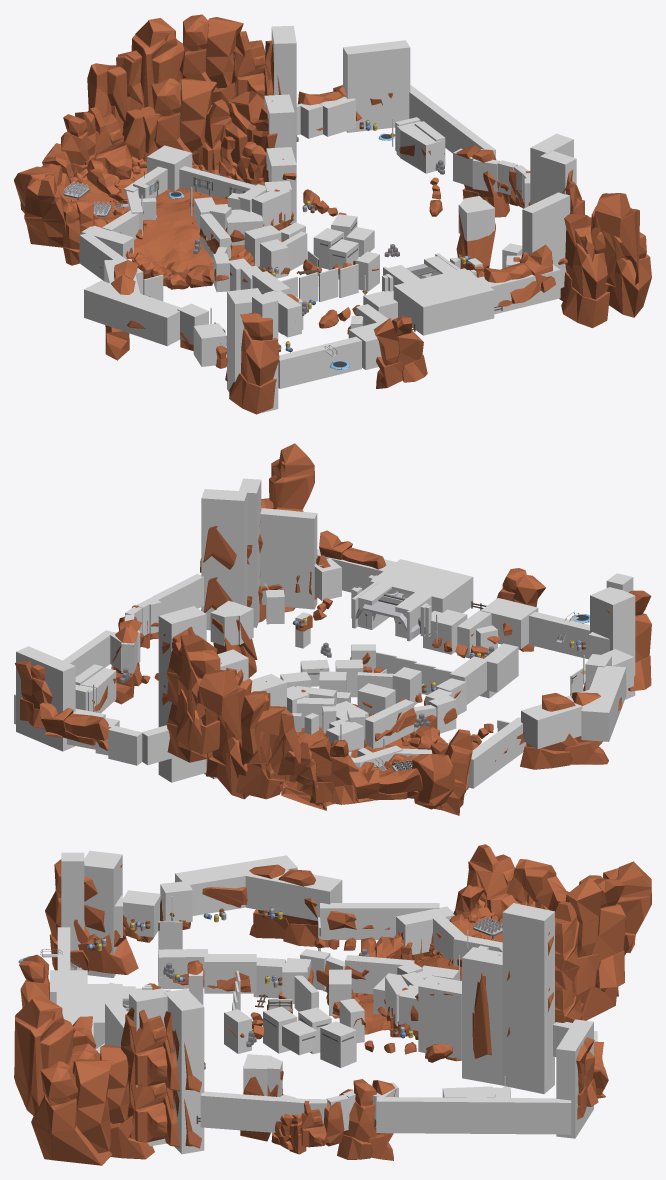
File: City-work20.glb
The picture shows the model from 3 angles, top to bottom: view 1: azimuth 30°, elevation 25°; view 2: azimuth 150°, elevation 25°; view 3: azimuth 270°, elevation 25°; orthographic projection. The views are drawn at different scales.
Parts seen in each view (by area): view 1: Cube.031_165, b-box.023, Circle.002_161, b-box.101, Cube.109_198.001, b-box.087, Cube.086_170, Cube.115_202, Cube.095_184, Cube.032_166.001, Cube.032_166, b-box.005 (+59 smaller); view 2: Cube.115_202, Cube.031_165, b-box.007, b-box.010, Cube.090_173, Cube.095_184.001, b-box.028, Cube.032_166, b-box.023, b-box.052, b-box.101, b-box.087 (+49 smaller); view 3: b-box.028, Cube.031_165, b-box.018, Cube.086_170.001, Cube.095_184.001, Cube.032_166.001, b-box.029, b-box.010, Cube.109_198.001, b-box.030, b-box.088, Cube.030_176.001 (+58 smaller).
Boxes of the visible parts, bbox=[...] form: Cube.031_165: bbox=[179, 14, 279, 414]; b-box.023: bbox=[343, 40, 410, 132]; Circle.002_161: bbox=[118, 158, 263, 270]; b-box.101: bbox=[393, 268, 494, 335]; Cube.109_198.001: bbox=[559, 212, 609, 327]; b-box.087: bbox=[84, 280, 180, 346]; Cube.086_170: bbox=[151, 78, 216, 164]; Cube.115_202: bbox=[41, 85, 556, 306]; Cube.095_184: bbox=[263, 158, 427, 388]; Cube.032_166.001: bbox=[585, 193, 639, 286]; Cube.032_166: bbox=[131, 18, 184, 109]; b-box.005: bbox=[278, 336, 361, 388]; Cube.115_202: bbox=[39, 530, 422, 802]; Cube.031_165: bbox=[175, 590, 651, 754]; b-box.007: bbox=[260, 508, 317, 609]; b-box.010: bbox=[201, 489, 247, 630]; Cube.090_173: bbox=[15, 661, 358, 804]; Cube.095_184.001: bbox=[111, 619, 608, 769]; b-box.028: bbox=[158, 606, 206, 782]; Cube.032_166: bbox=[194, 669, 248, 766]; b-box.023: bbox=[16, 646, 75, 751]; b-box.052: bbox=[590, 587, 635, 699]; b-box.101: bbox=[370, 559, 473, 613]; b-box.087: bbox=[581, 666, 626, 741]; b-box.028: bbox=[502, 903, 554, 1093]; Cube.031_165: bbox=[45, 859, 625, 996]; b-box.018: bbox=[376, 1097, 571, 1134]; Cube.086_170.001: bbox=[31, 1059, 112, 1165]; Cube.095_184.001: bbox=[249, 864, 395, 1160]; Cube.032_166.001: bbox=[14, 995, 78, 1115]; b-box.029: bbox=[462, 947, 502, 1085]; b-box.010: bbox=[164, 988, 204, 1154]; Cube.109_198.001: bbox=[72, 1043, 154, 1159]; b-box.030: bbox=[418, 975, 461, 1059]; b-box.088: bbox=[245, 865, 342, 920]; Cube.030_176.001: bbox=[121, 1007, 167, 1086].
Size of the model in its own units: 103 by 37.79 by 110.
27 materials, 13 textured.
